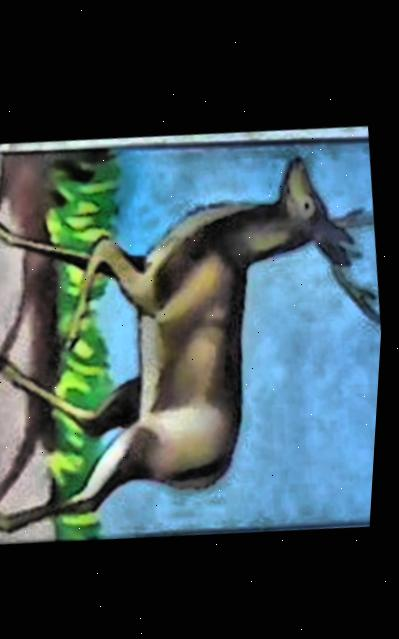El Venado: (0, 104, 394, 563)
